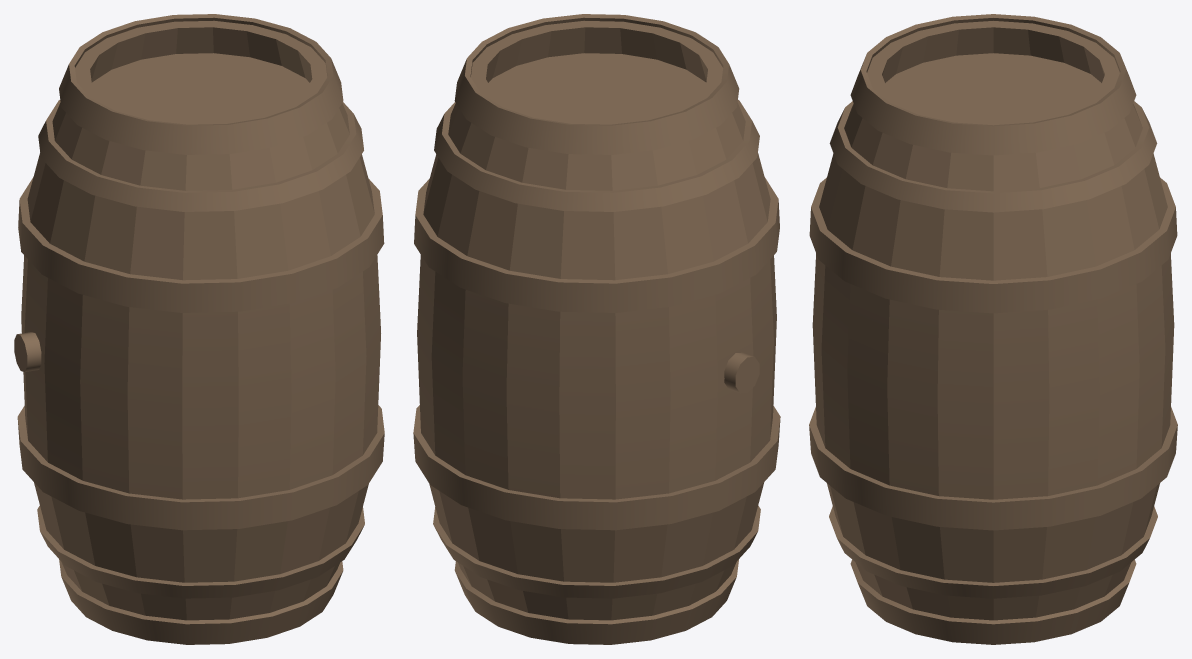
File: Barrel_02_LOD0_Mesh.fbx
3 views of the same model, side by side, from view 1: azimuth 30°, elevation 25°; view 2: azimuth 150°, elevation 25°; view 3: azimuth 270°, elevation 25° (orthographic).
Parts seen in each view (by area): view 1: Barrel02; view 2: Barrel02; view 3: Barrel02.
Part boxes in pixels (x1=…): Barrel02: x1=14, y1=14, x2=384, y2=644; Barrel02: x1=413, y1=14, x2=780, y2=644; Barrel02: x1=809, y1=14, x2=1177, y2=644.
Size of the model in its own units: 85.11 by 129 by 82.94.
